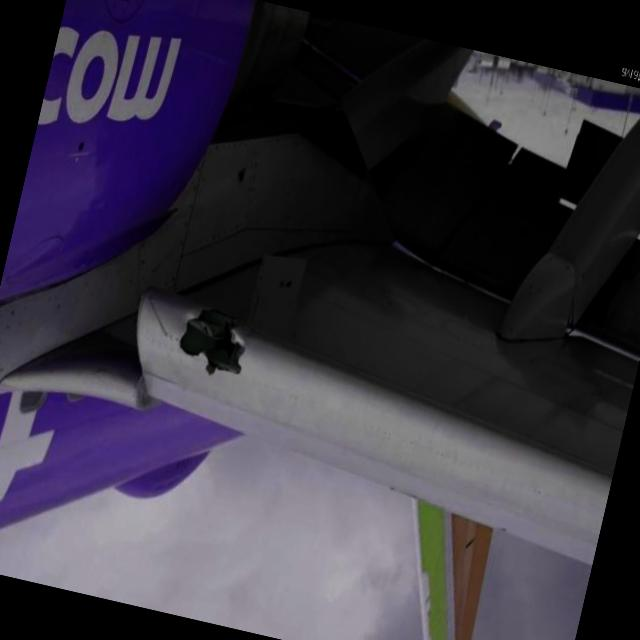crack: (172, 306, 256, 386)
